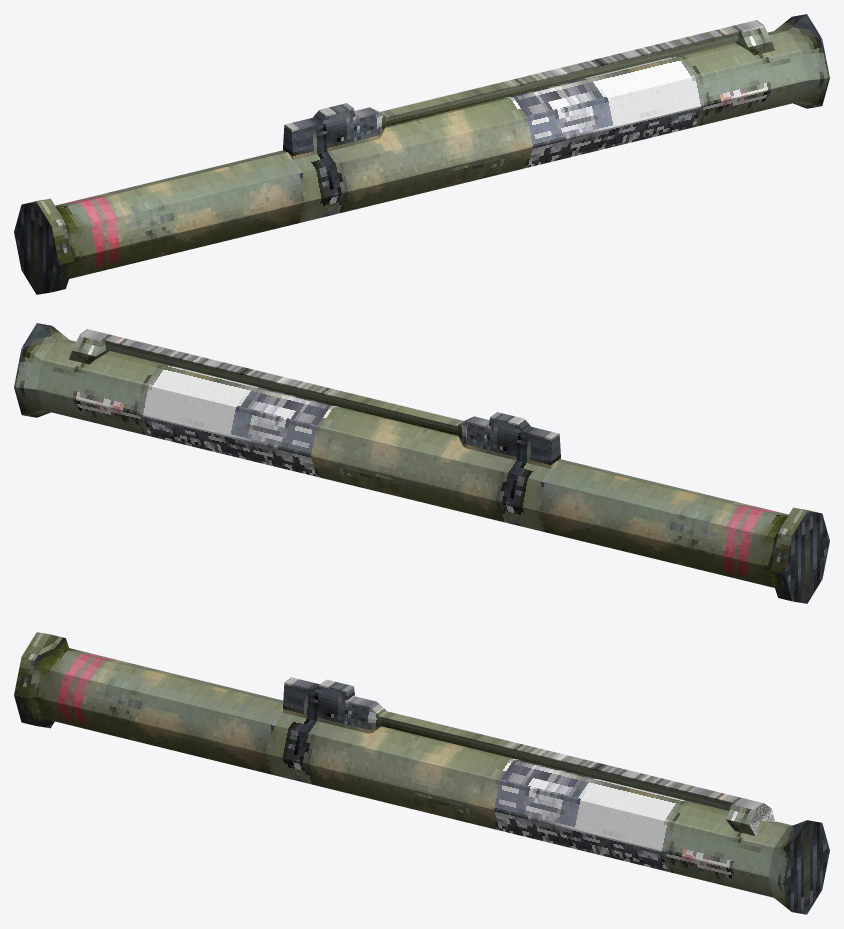
Rendered from bazooka.glb.
3 views of the same model, one above another, from view 1: azimuth 30°, elevation 25°; view 2: azimuth 150°, elevation 25°; view 3: azimuth 330°, elevation 25° (orthographic).
Parts seen in each view (by area): view 1: Cylinder; view 2: Cylinder; view 3: Cylinder.
Part boxes in pixels (bbox=[...]): Cylinder: bbox=[14, 14, 829, 294]; Cylinder: bbox=[14, 323, 829, 603]; Cylinder: bbox=[14, 632, 829, 914].
Bounding box in the file's own units: 11.66 × 1.66 × 1.2.
1 material, 1 textured.
